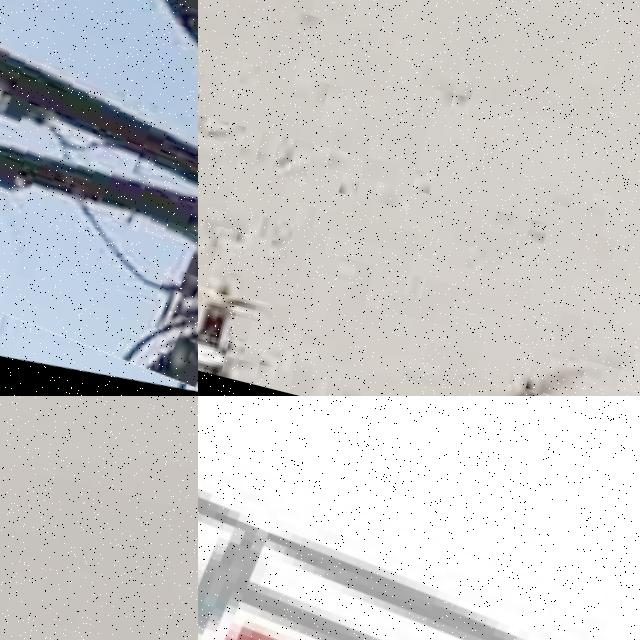drone: (198, 443, 640, 640), (0, 0, 198, 396)
